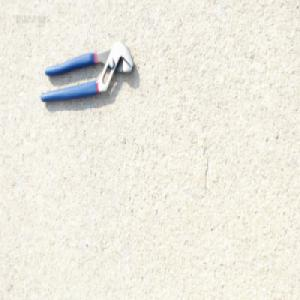Pliers: (39, 42, 134, 106)
